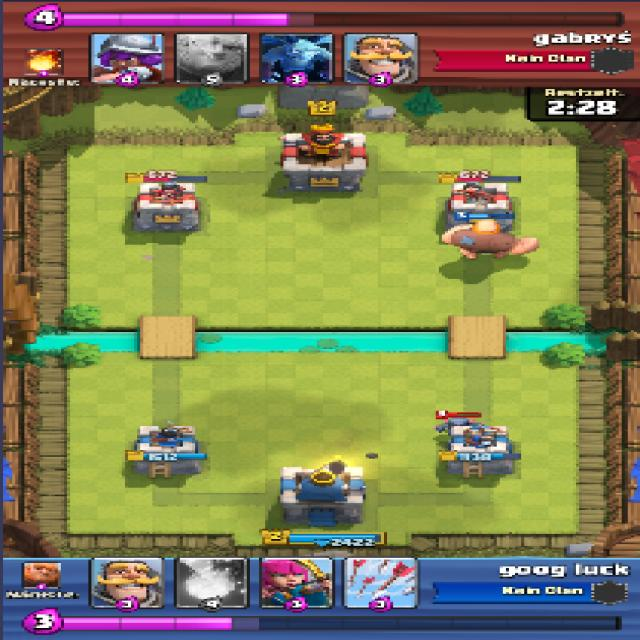Enemy-MiniPEKKA: (432, 414, 483, 437)
Player-Giant: (442, 219, 540, 259)
